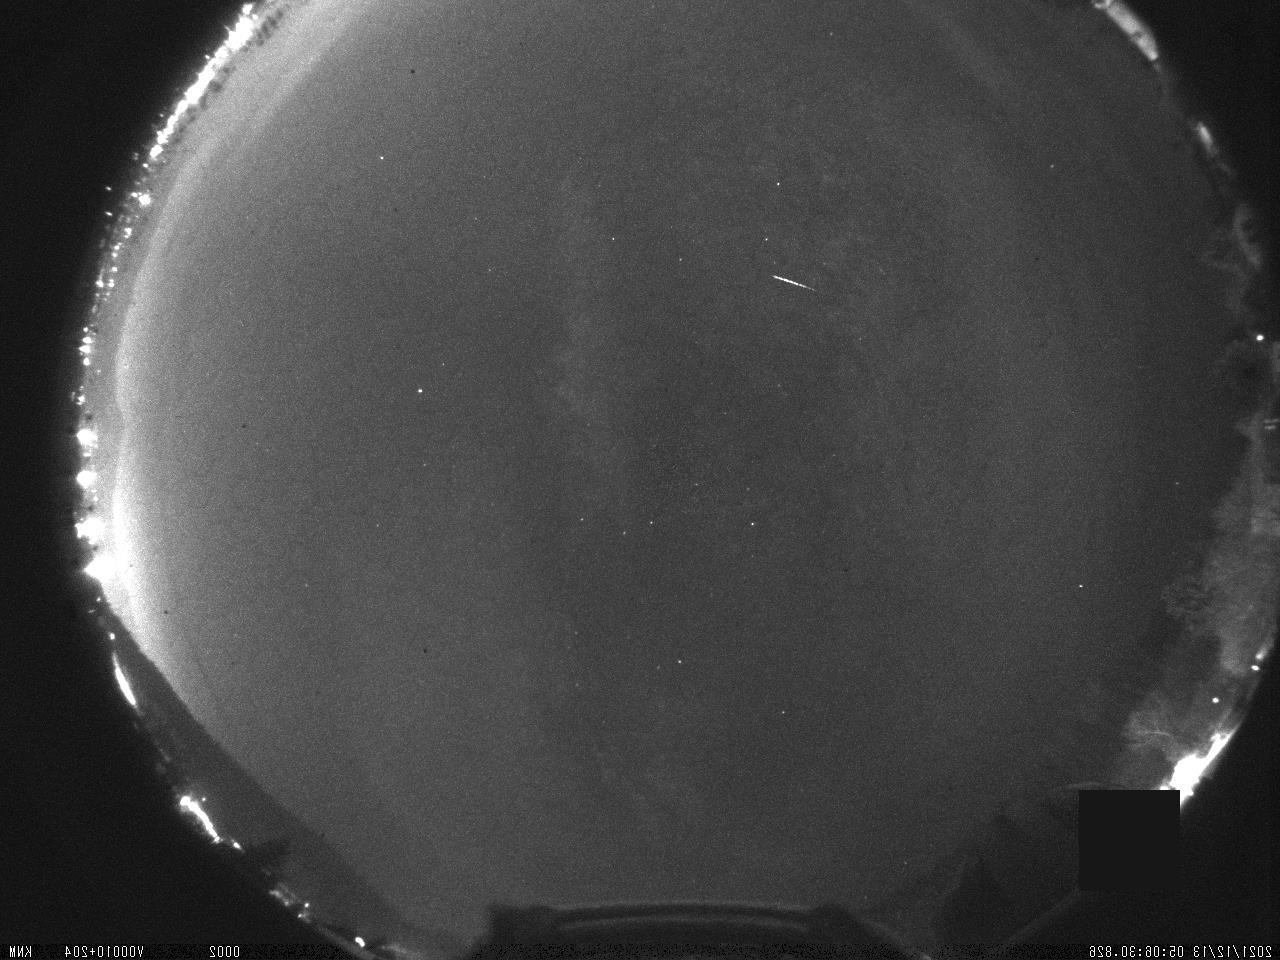meteor: (763, 260, 822, 301)
